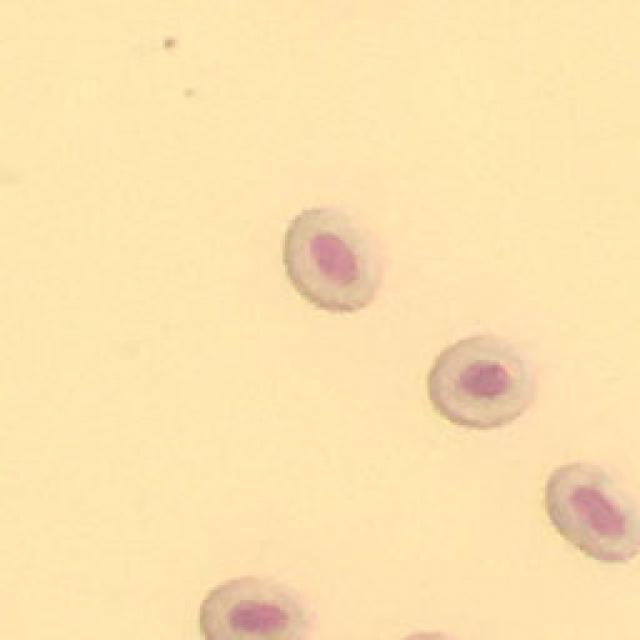RBC: (285, 208, 382, 312), (430, 338, 535, 430), (544, 465, 640, 562), (202, 580, 318, 640)
